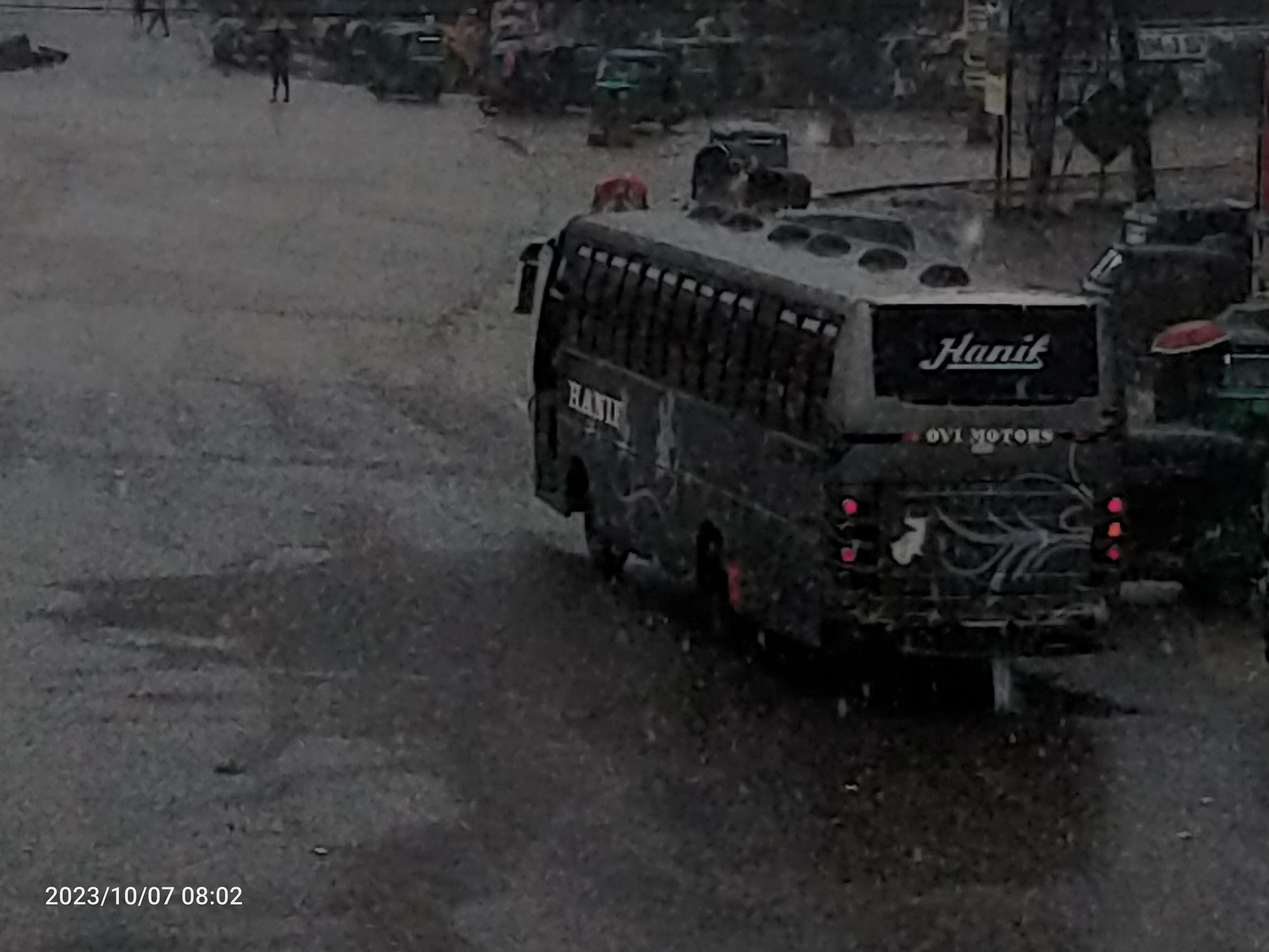Bus: (464, 195, 1153, 675)
